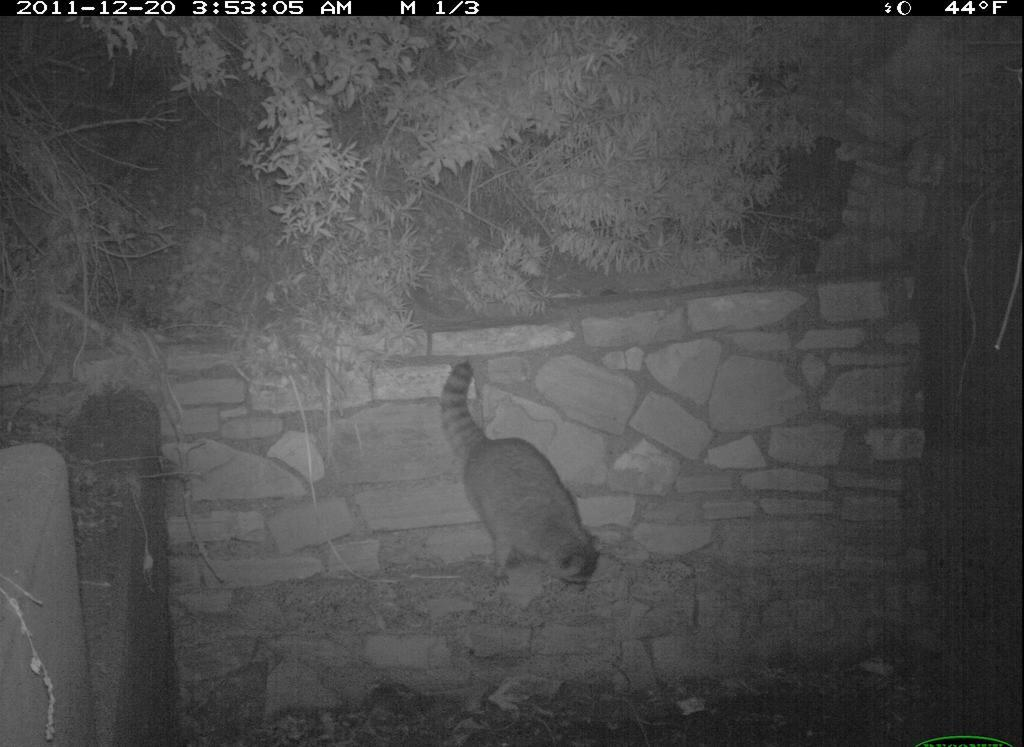raccoon: (440, 353, 605, 601)
